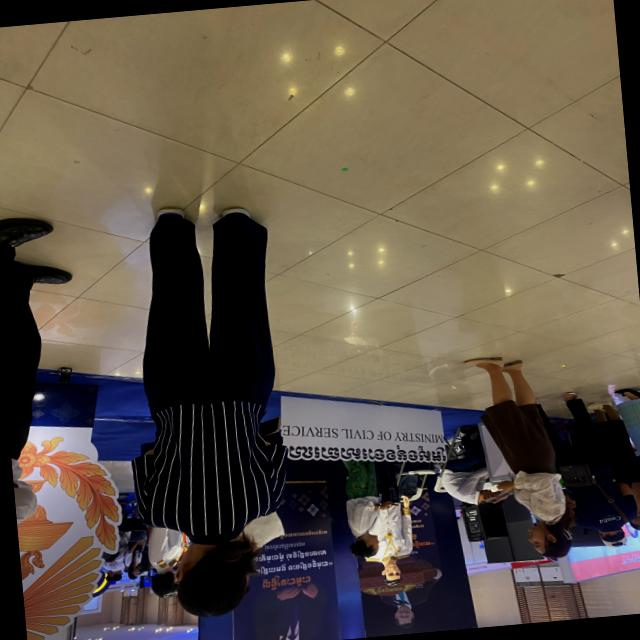1: (255, 546, 330, 565), (256, 559, 332, 576)
Yolov11_80vkh: (285, 438, 449, 464), (259, 571, 314, 592), (261, 539, 308, 554), (283, 528, 331, 539), (412, 539, 433, 549)
